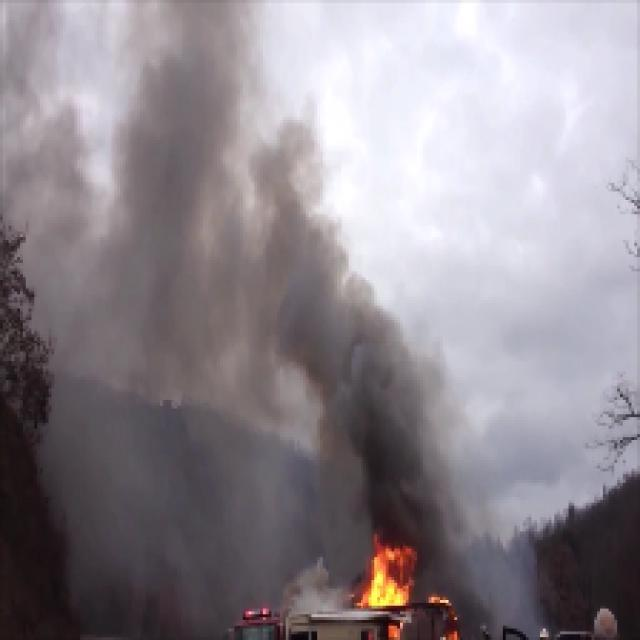Fire: (366, 544, 406, 610)
Smoke: (188, 248, 352, 362), (352, 359, 429, 546)
